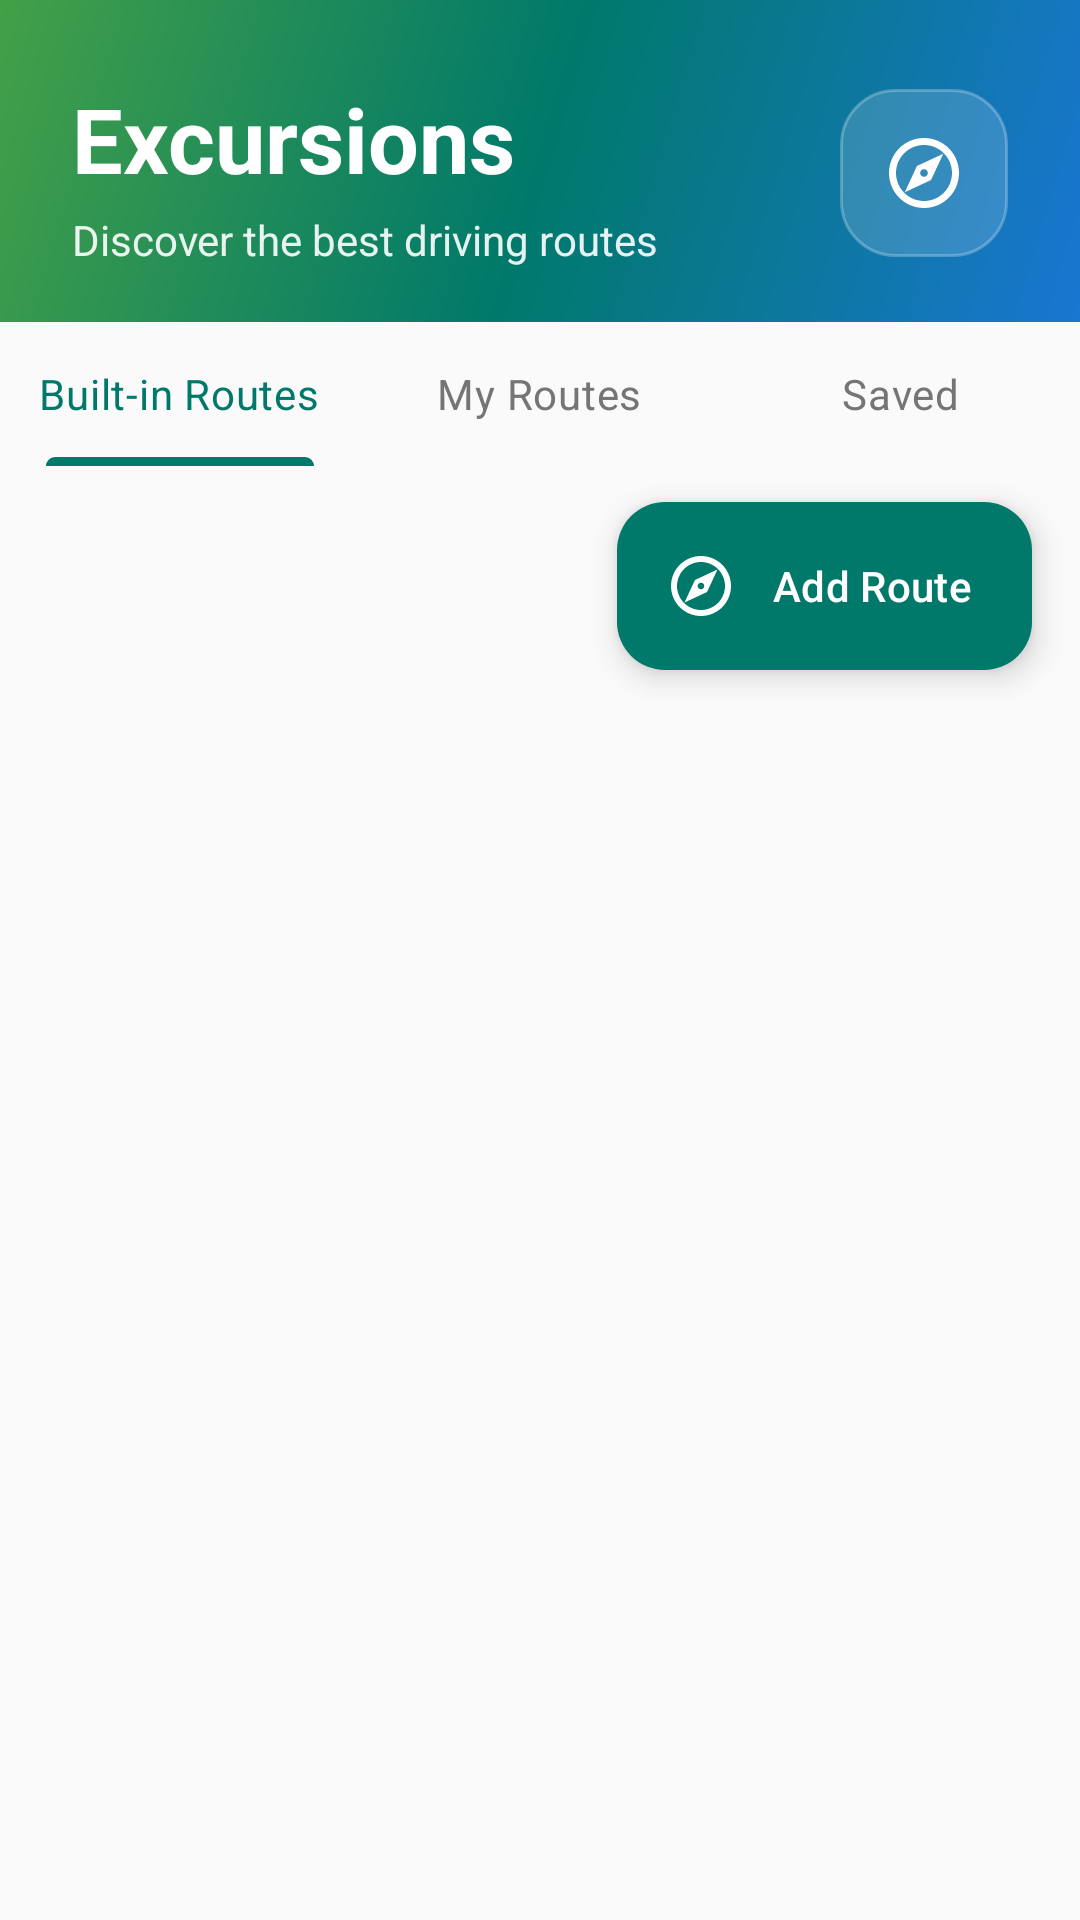

Screen size 1080*1920. Icon name, then its box in pixels as BBox(x1, y1, x2, y2):
ekdromes: BBox(889, 138, 959, 208)
